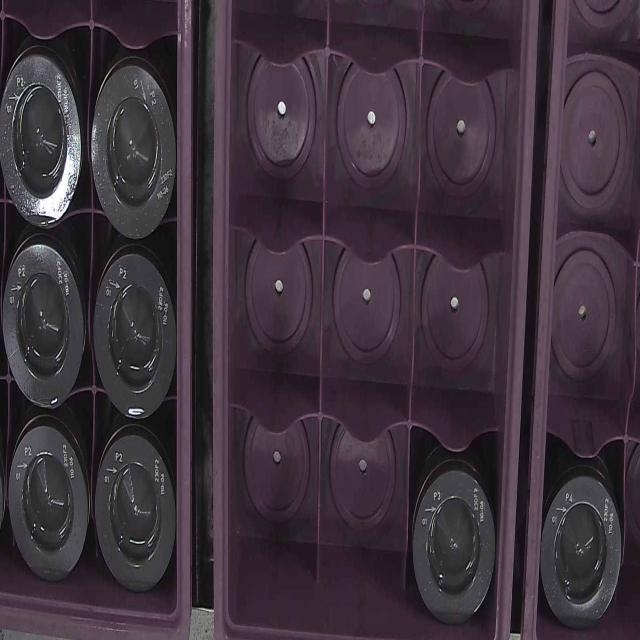P2: (90, 56, 174, 241), (93, 253, 176, 422), (5, 241, 86, 414), (5, 51, 80, 222), (97, 434, 176, 592), (10, 426, 89, 578)
P3: (416, 466, 494, 624)
P4: (546, 466, 624, 616)
